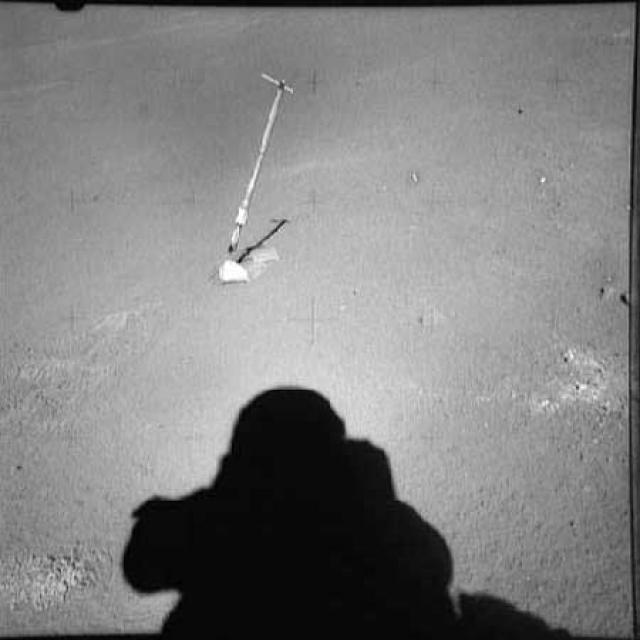artifact: (190, 42, 334, 268)
